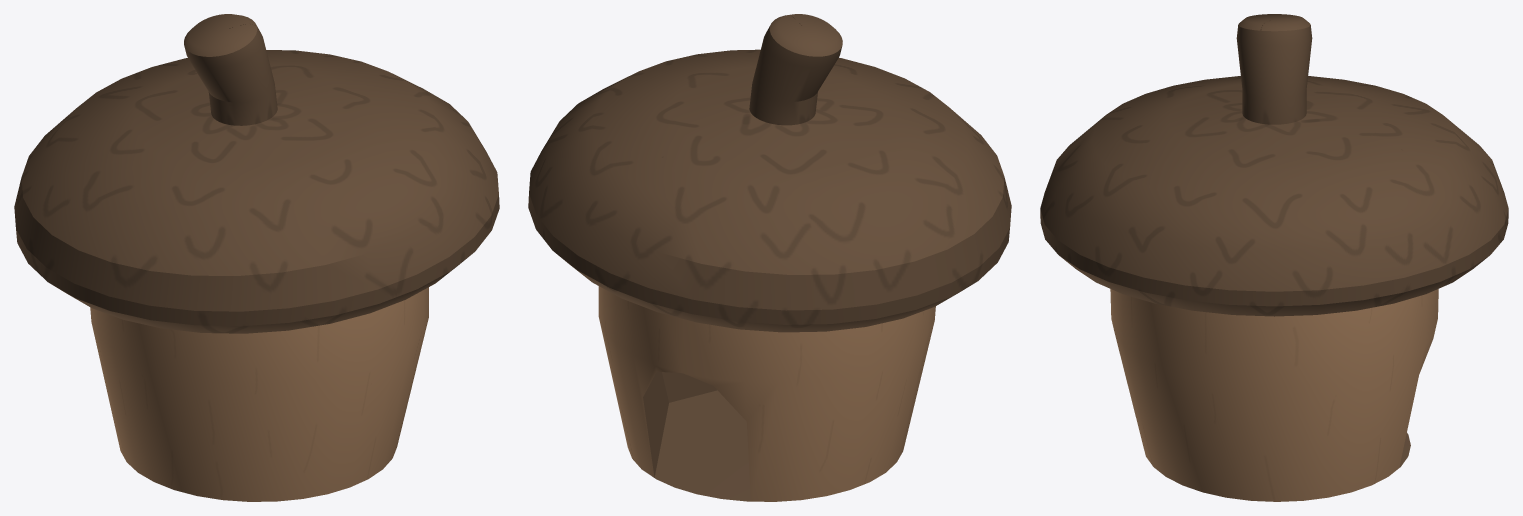
File: Casinha.fbx
The picture shows the model from 3 angles, left to right: view 1: azimuth 30°, elevation 25°; view 2: azimuth 150°, elevation 25°; view 3: azimuth 270°, elevation 25°; orthographic projection. The views are drawn at different scales.
Parts seen in each view (by area): view 1: Casinha; view 2: Casinha; view 3: Casinha.
Boxes of the visible parts, <box> form: Casinha: <box>14,14,499,501</box>; Casinha: <box>528,14,1011,501</box>; Casinha: <box>1040,14,1508,501</box>.
Size of the model in its own units: 1601 by 1562 by 1602.
